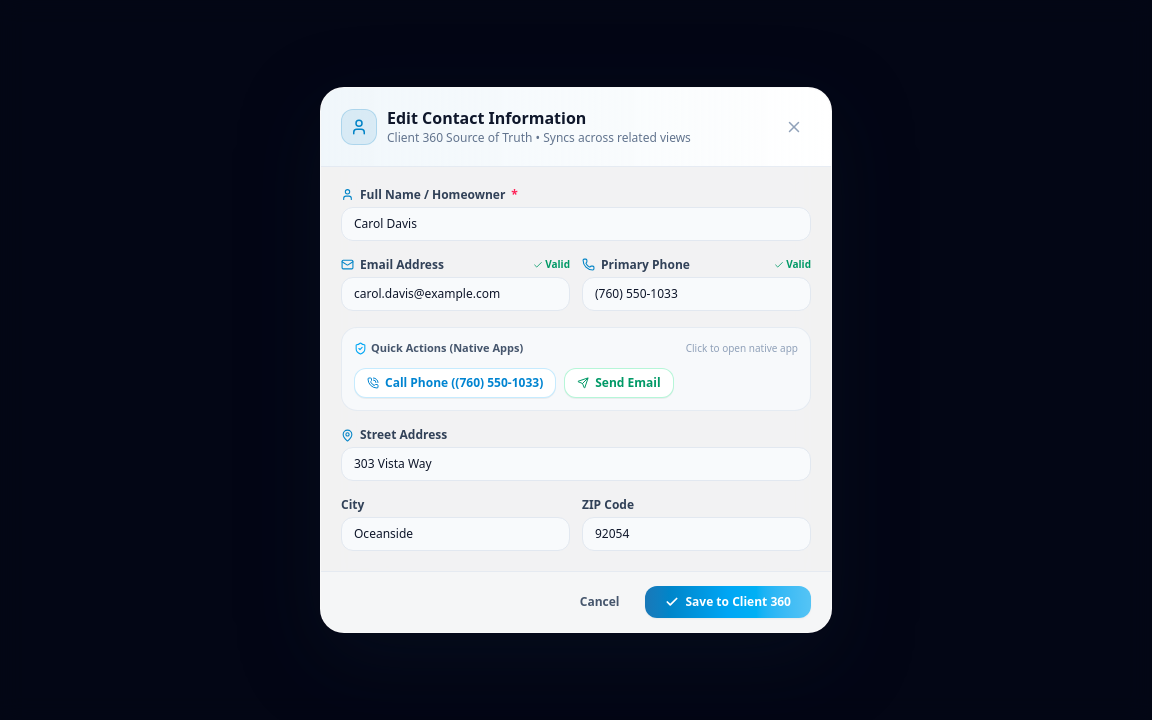
ClientEditContactModal › displays clear conflict error and retains data when conflicting with a different client
Replace the text in the field with placeholder "e.g. client@example.com" below "Email Address" with "other@example.com" at [456, 294], box x1=341 y1=277 x2=570 y2=311
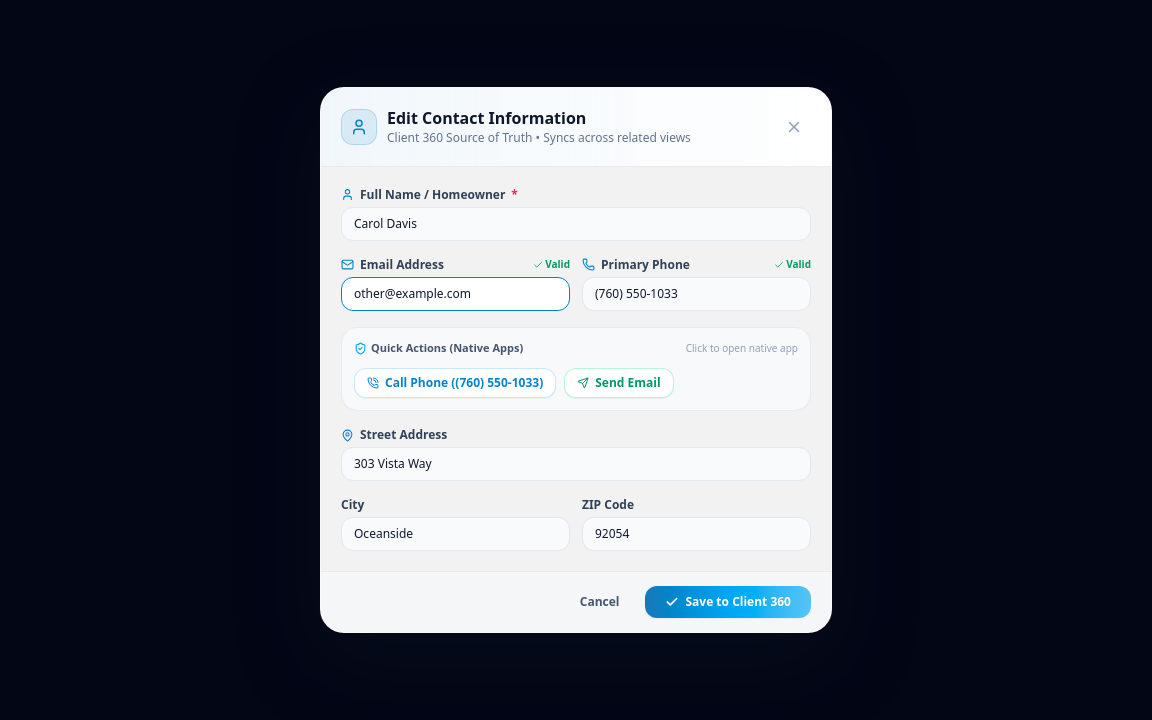
Click the button "Save to Client 360".
click(728, 602)  # box x1=646 y1=586 x2=811 y2=618
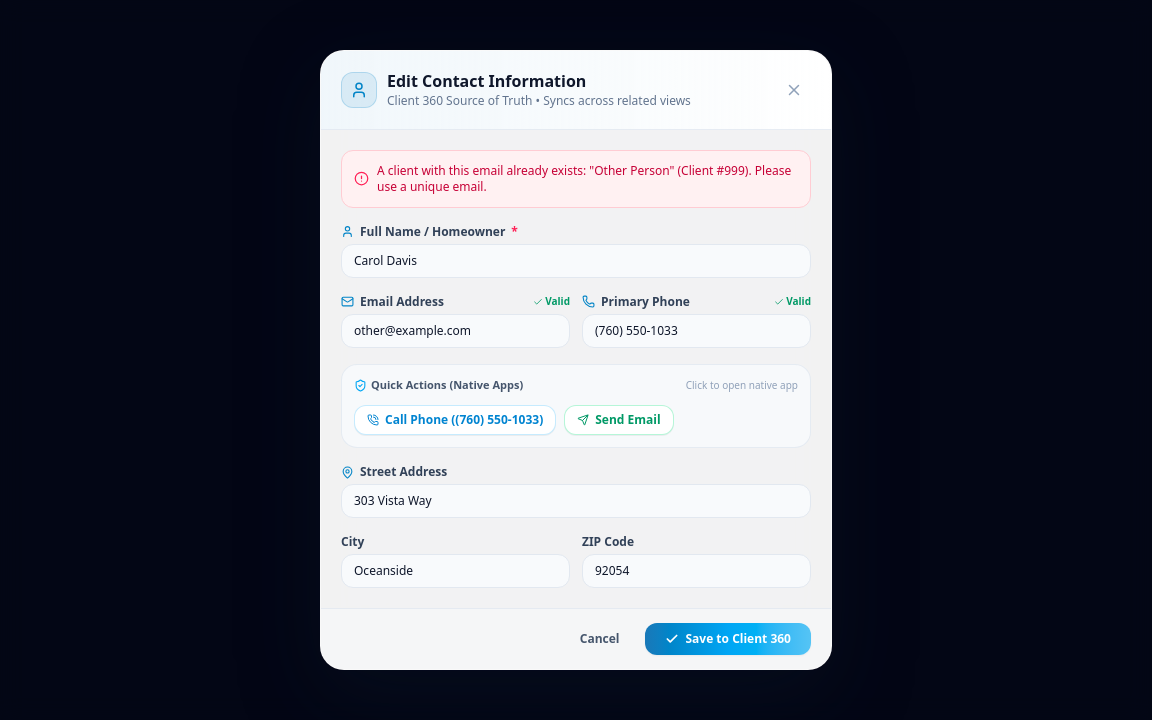
Now the text "A client with this email already exists: \"Other Person\" (Client #999)" is shown, box x1=377 y1=162 x2=791 y2=195
